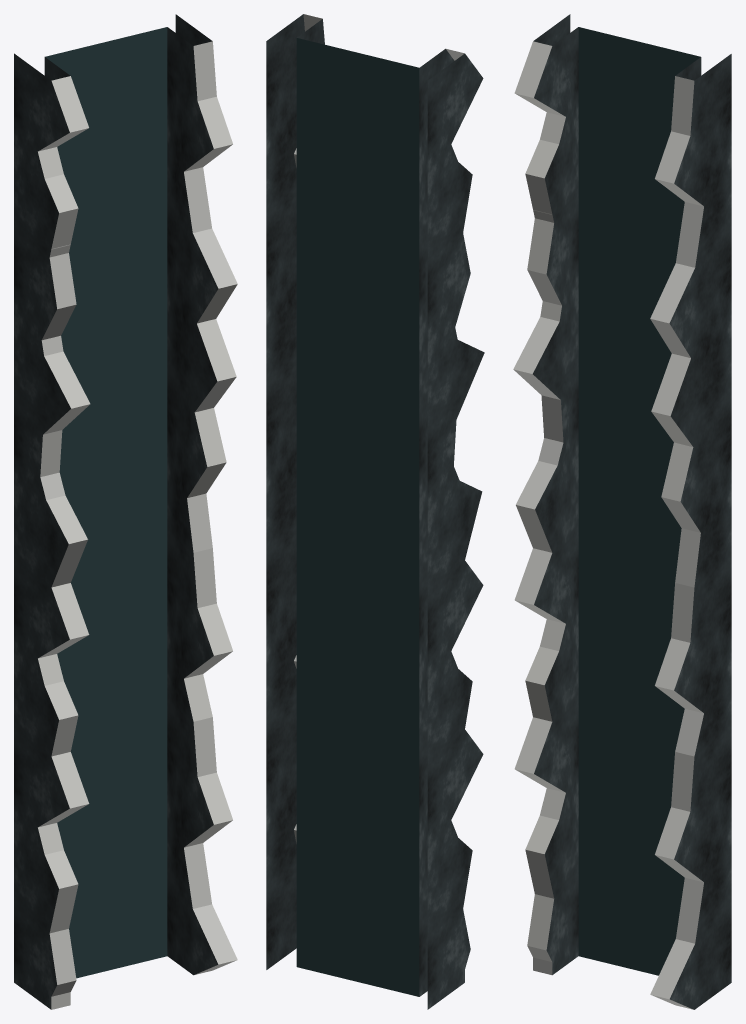
File: OT_048_broken_wall_vert_deco_var2.glb
The picture shows the model from 3 angles, left to right: view 1: azimuth 30°, elevation 25°; view 2: azimuth 150°, elevation 25°; view 3: azimuth 330°, elevation 25°; orthographic projection.
Visible parts, largest first — view 1: broken_wall.007, broken_wall.006, broken_wall.001; view 2: broken_wall.007, broken_wall.006, broken_wall.001; view 3: broken_wall.007, broken_wall.006, broken_wall.001.
Boxes of the visible parts, x1,y1,x2,y2 form: broken_wall.007: (14,14,237,587); broken_wall.006: (14,703,237,1009); broken_wall.001: (14,534,232,756); broken_wall.007: (266,14,484,586); broken_wall.006: (266,695,483,1009); broken_wall.001: (266,526,483,755); broken_wall.007: (513,14,731,587); broken_wall.006: (514,703,731,1009); broken_wall.001: (514,534,731,756).
Bounding box in the file's own units: 0.75 × 4.12 × 0.5008.
Materials: 6 (2 with a texture image).
